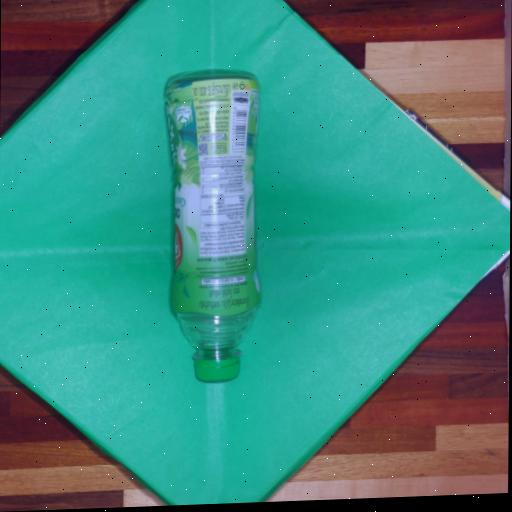bottle: (151, 59, 277, 398)
